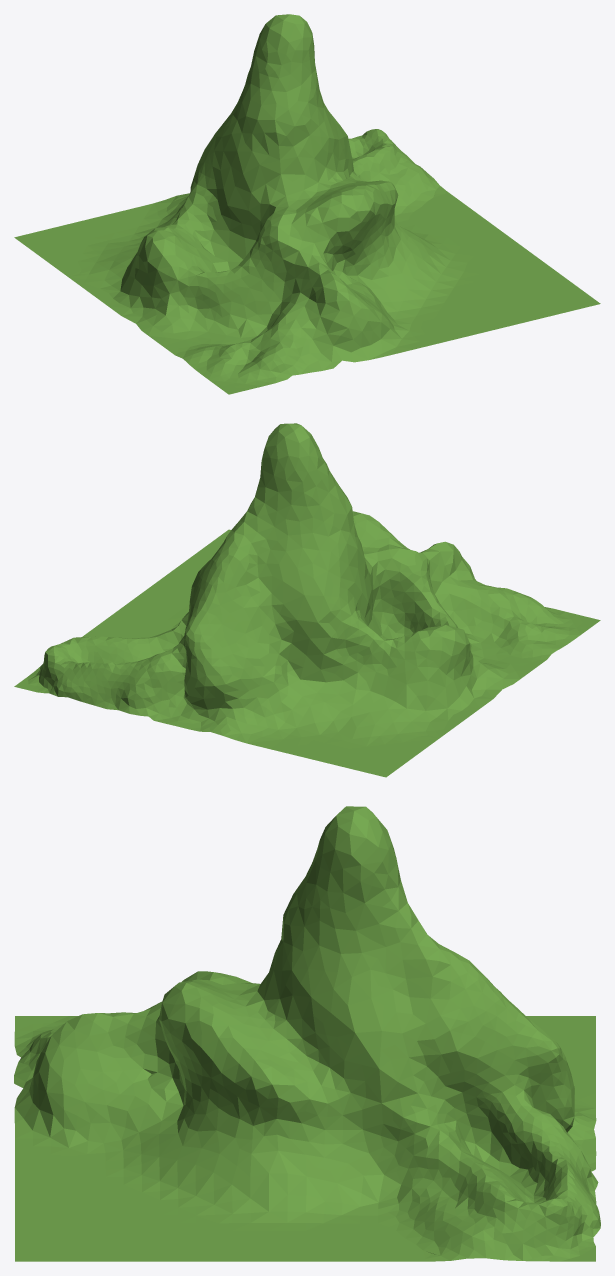
File: hill1.glb
3 views of the same model, one above another, from view 1: azimuth 30°, elevation 25°; view 2: azimuth 150°, elevation 25°; view 3: azimuth 270°, elevation 25° (orthographic). The views are drawn at different scales.
Parts seen in each view (by area): view 1: Plane.001; view 2: Plane.001; view 3: Plane.001.
Boxes of the visible parts, x1,y1,x2,y2 form: Plane.001: [14, 14, 600, 394]; Plane.001: [14, 423, 600, 777]; Plane.001: [14, 806, 600, 1261].
Size of the model in its own units: 2.01 by 1.25 by 2.02.
